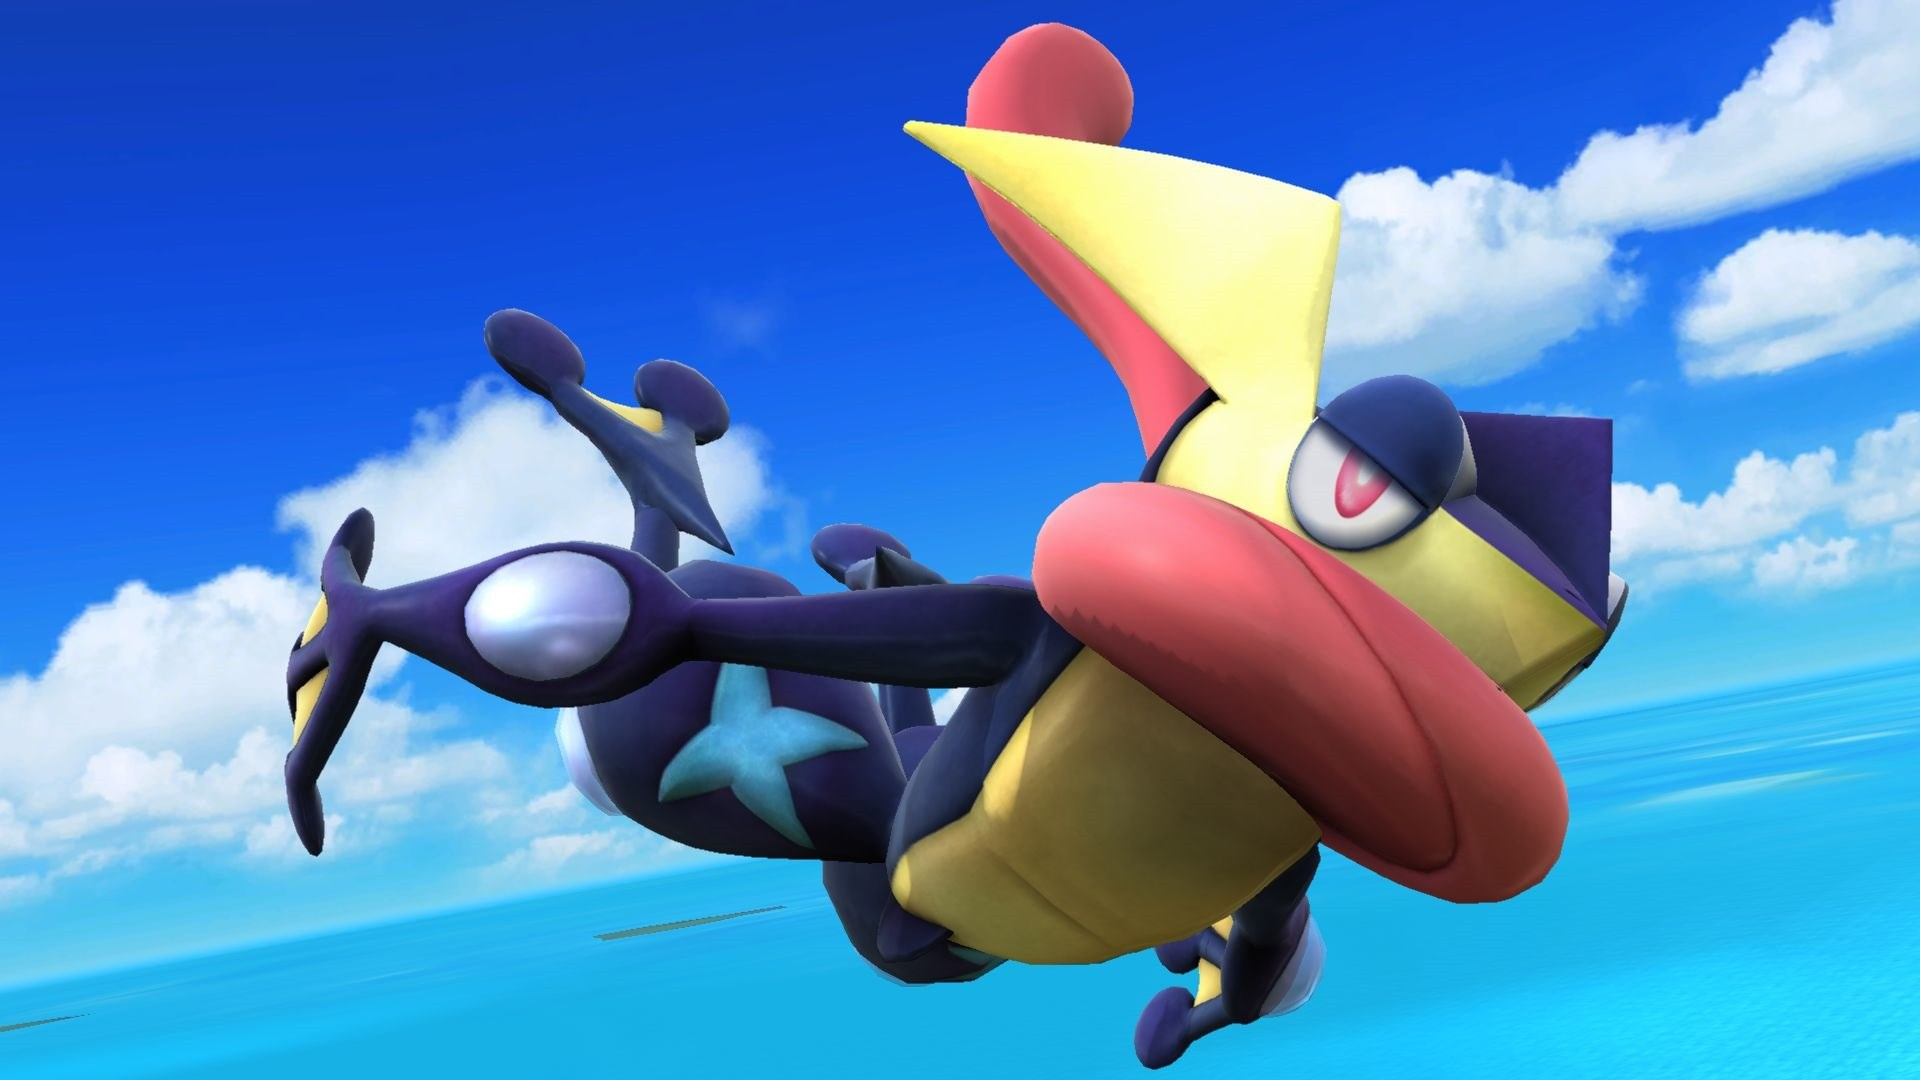greninja: (266, 20, 1622, 1077)
